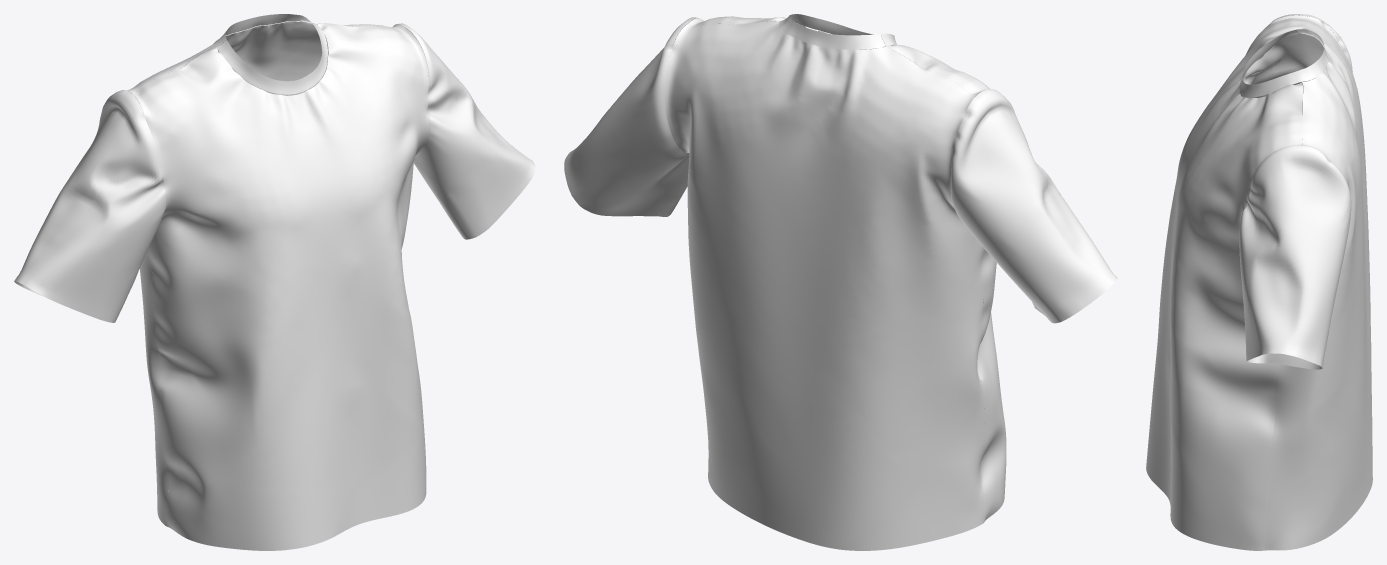
File: shirt.gltf
The picture shows the model from 3 angles, left to right: view 1: azimuth 30°, elevation 25°; view 2: azimuth 150°, elevation 25°; view 3: azimuth 270°, elevation 25°; orthographic projection. The views are drawn at different scales.
Parts seen in each view (by area): view 1: Urd, Baruun hantsui, Zuun hantsui, Ard, Zah; view 2: Ard, Baruun hantsui, Zuun hantsui, Urd, Zah; view 3: Urd, Ard, Zuun hantsui, Baruun hantsui, Zah.
Part boxes in pixels (x1=…): Urd: x1=130, y1=23, x2=430, y2=550; Baruun hantsui: x1=14, y1=90, x2=165, y2=322; Zuun hantsui: x1=396, y1=23, x2=535, y2=239; Ard: x1=126, y1=21, x2=402, y2=526; Zah: x1=216, y1=14, x2=327, y2=94; Ard: x1=665, y1=21, x2=985, y2=550; Baruun hantsui: x1=950, y1=89, x2=1117, y2=323; Zuun hantsui: x1=564, y1=17, x2=698, y2=216; Urd: x1=688, y1=16, x2=1006, y2=521; Zah: x1=778, y1=14, x2=896, y2=49; Urd: x1=1146, y1=15, x2=1302, y2=550; Ard: x1=1264, y1=16, x2=1372, y2=550; Zuun hantsui: x1=1239, y1=145, x2=1351, y2=369; Baruun hantsui: x1=1241, y1=14, x2=1352, y2=114; Zah: x1=1239, y1=29, x2=1328, y2=97.
Bounding box in the file's own units: 3.48 × 2.99 × 1.37.
Materials: 1 (1 with a texture image).
